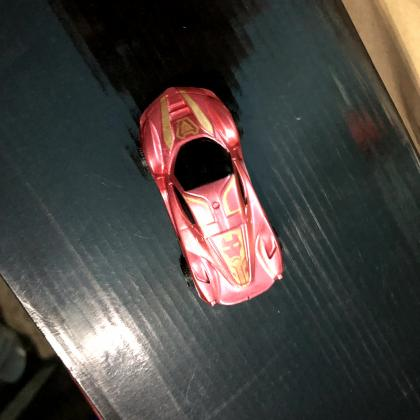Car: (136, 83, 285, 308)
